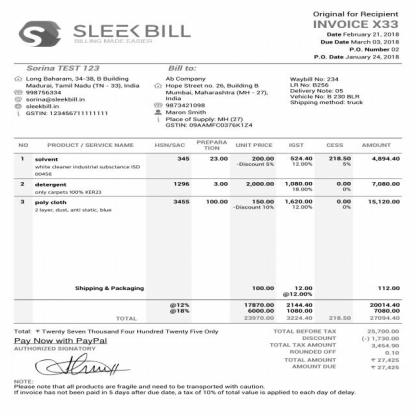Paragraph: (164, 64, 270, 130), (12, 378, 358, 396), (24, 64, 141, 116), (268, 328, 400, 371), (310, 10, 402, 62), (12, 328, 220, 351), (289, 76, 364, 106), (74, 38, 153, 44)
Table: (13, 139, 403, 324)
